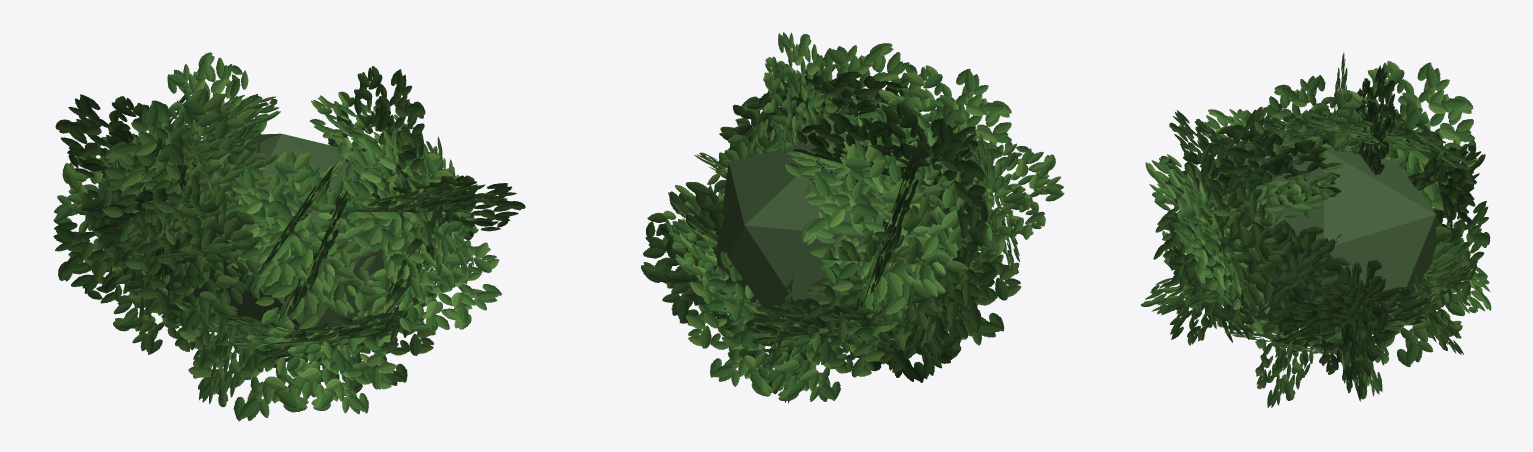
File: shrub.glb
3 renders of one model, left to right at view 1: azimuth 30°, elevation 25°; view 2: azimuth 150°, elevation 25°; view 3: azimuth 270°, elevation 25°, orthographic. The views are drawn at different scales.
Parts seen in each view (by area): view 1: shrub_leaves_lod0, shrub_core_lod0; view 2: shrub_leaves_lod0, shrub_core_lod0; view 3: shrub_leaves_lod0, shrub_core_lod0.
Boxes of the visible parts, x1=… form: shrub_leaves_lod0: x1=53, y1=52, x2=525, y2=421; shrub_core_lod0: x1=161, y1=133, x2=408, y2=335; shrub_leaves_lod0: x1=641, y1=32, x2=1064, y2=403; shrub_core_lod0: x1=713, y1=135, x2=938, y2=328; shrub_leaves_lod0: x1=1141, y1=52, x2=1491, y2=407; shrub_core_lod0: x1=1220, y1=150, x2=1435, y2=324.
Size of what is drawn, in the model's own units: 2.09 by 1.76 by 1.88.
2 materials, 1 textured.
